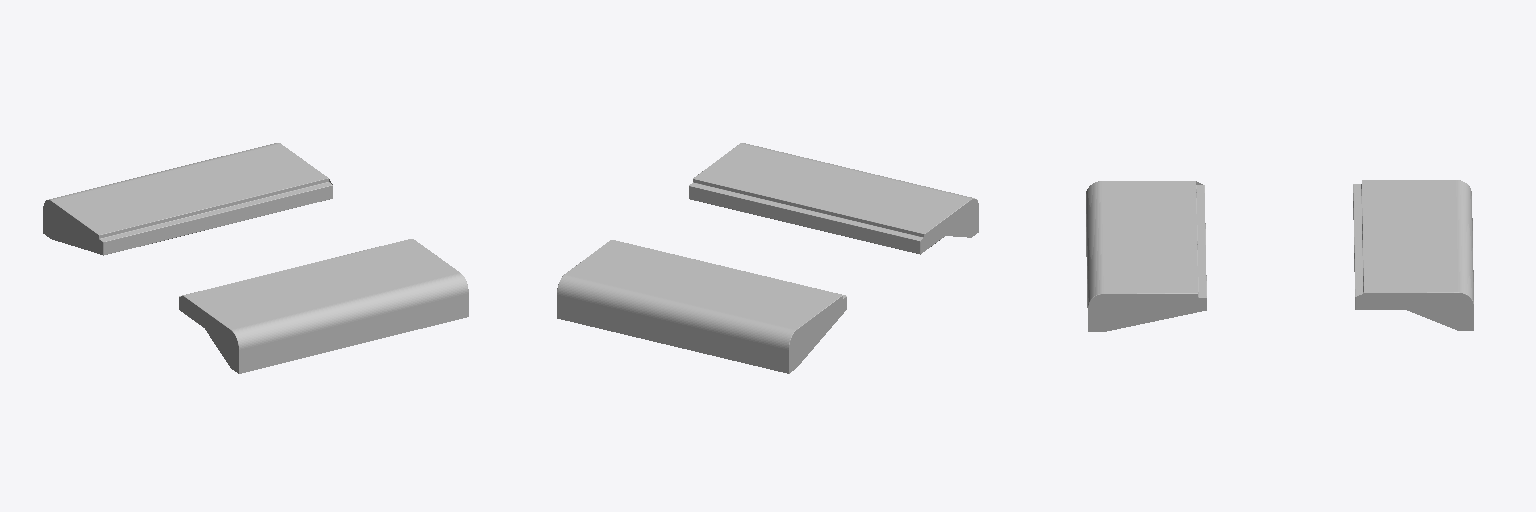
File: table-p2.obj
The picture shows the model from 3 angles: view 1: azimuth 30°, elevation 25°; view 2: azimuth 150°, elevation 25°; view 3: azimuth 270°, elevation 25°; orthographic projection.
Visible parts, largest first — view 1: верх1.левый, верх_правый; view 2: верх_правый, верх1.левый; view 3: верх1.левый, верх_правый.
Part boxes in pixels (x1,y1,x2,y2): верх1.левый: (179, 239, 468, 373); верх_правый: (43, 143, 332, 255); верх_правый: (557, 240, 846, 373); верх1.левый: (689, 143, 978, 254); верх1.левый: (1086, 181, 1206, 331); верх_правый: (1353, 180, 1473, 330).
Bounding box in the file's own units: 69.24 × 10.87 × 99.62.